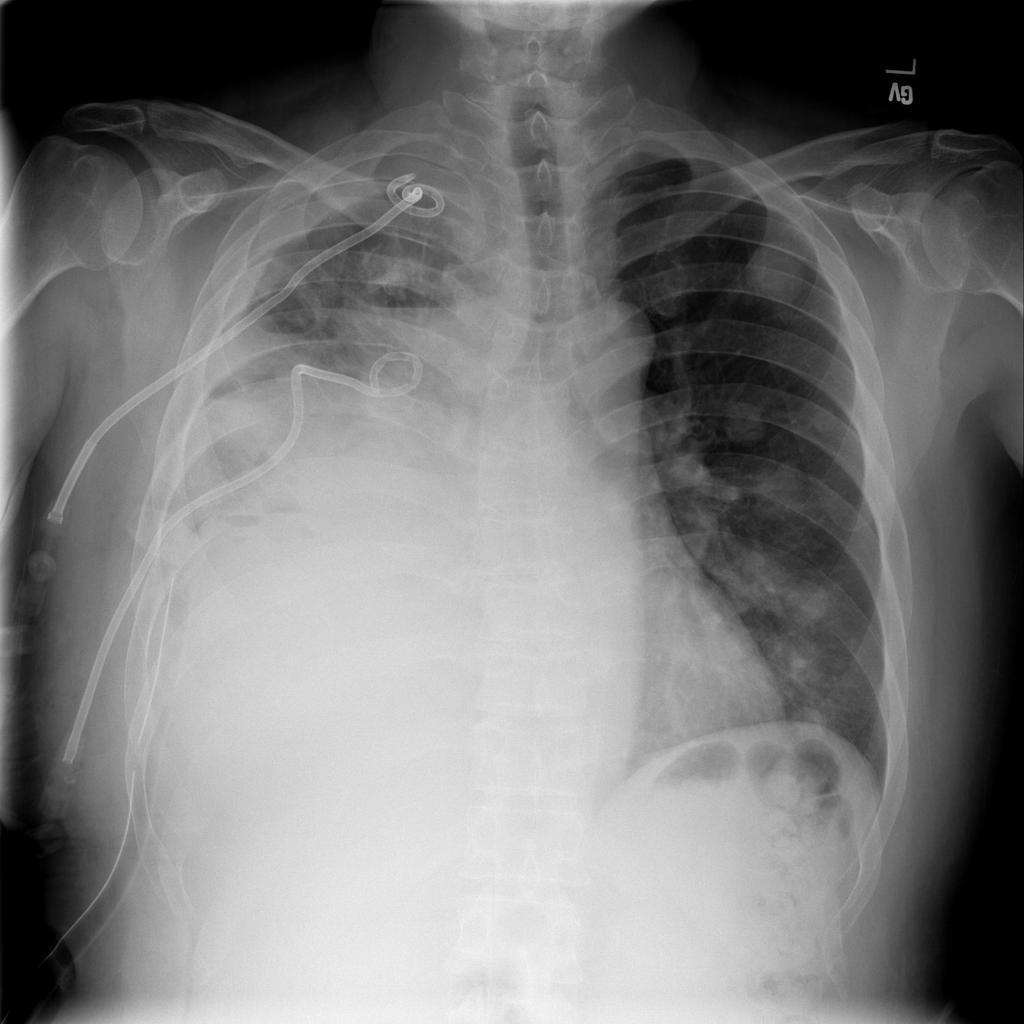nodule: (724, 220, 825, 326), (740, 458, 823, 535), (712, 383, 783, 458), (767, 630, 842, 701), (773, 567, 846, 633), (784, 701, 841, 750), (799, 390, 851, 443)
